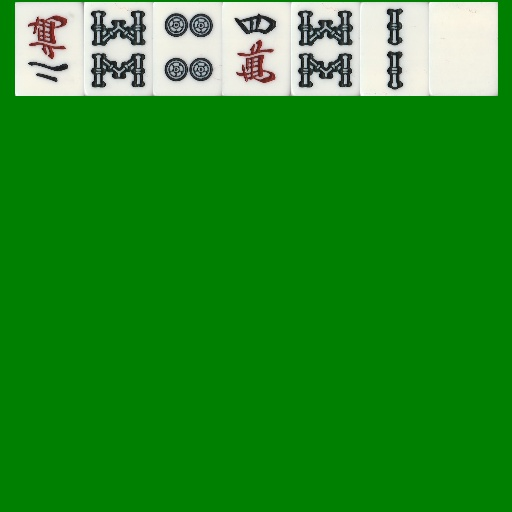2m: (15, 2, 84, 96)
2s: (360, 2, 429, 96)
4m: (222, 2, 291, 96)
4p: (153, 2, 222, 96)
8s: (84, 2, 153, 96), (291, 2, 360, 96)
white: (429, 2, 498, 96)
